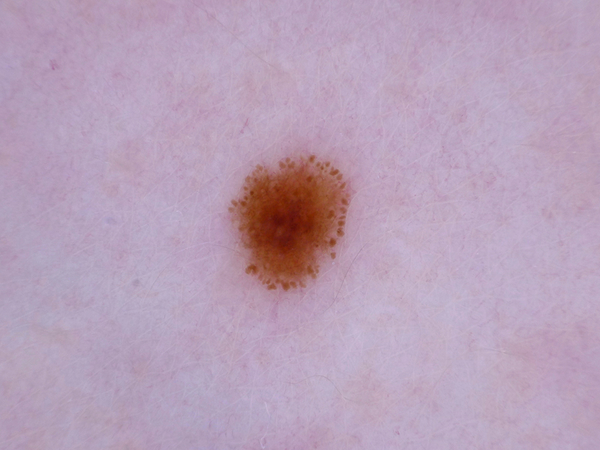Detected Lesion: (225, 154, 353, 297)
